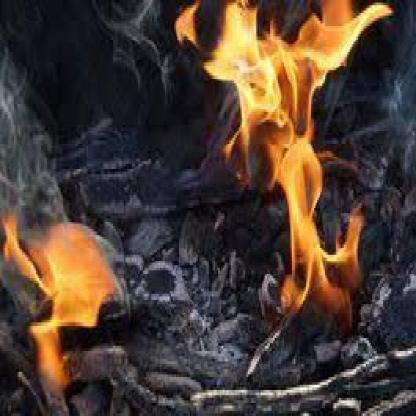Fire: (171, 0, 403, 338), (1, 180, 118, 392)
